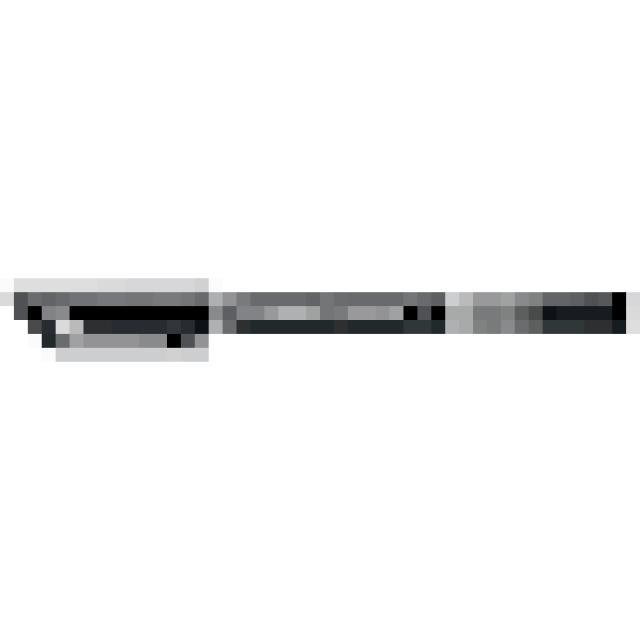pen: (0, 264, 626, 362)
